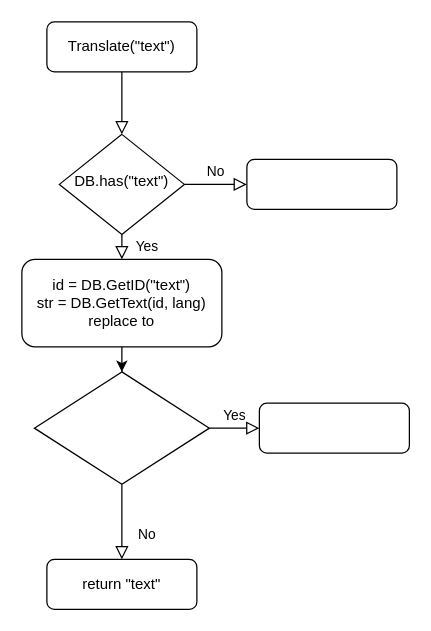
Image size: 431x631. Some labels were removed from this diagram. Here are the shapes that lost their labels. From the top down, the centre of each, then its label:
point (321, 183): Plug in lamp
point (333, 427): return DB.get("text", lang)
